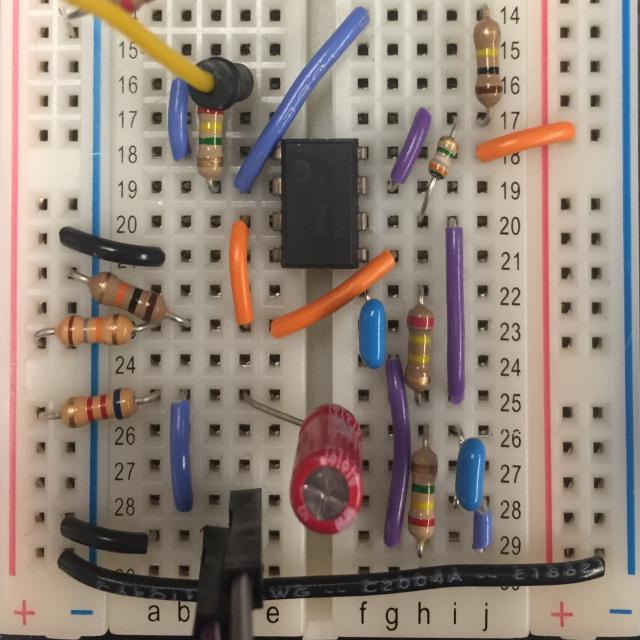Capacitor Electrolitico: (86, 268, 169, 324), (471, 12, 509, 110), (60, 384, 139, 430), (53, 311, 134, 349), (408, 443, 438, 544), (194, 96, 228, 185), (404, 300, 433, 396), (428, 126, 458, 186)
